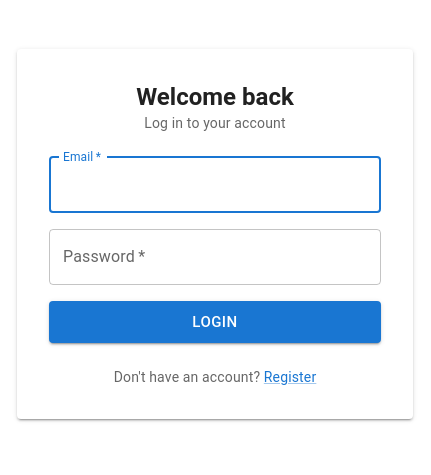
Test: Authentication › shows an error message on invalid credentials
In the field labelled "Email *": (215, 185) x1=49 y1=157 x2=381 y2=213, type "wrong@example.com"
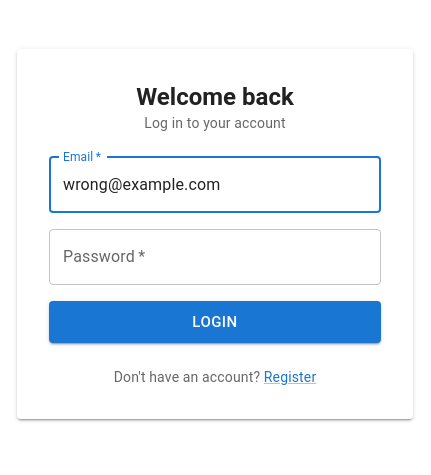
In the password field labelled "Password *": (215, 257) x1=49 y1=229 x2=381 y2=285, type "wrongpass"
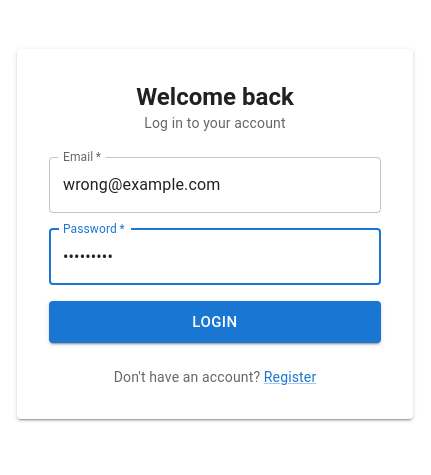
Click the submit button: (215, 322) x1=49 y1=301 x2=381 y2=343
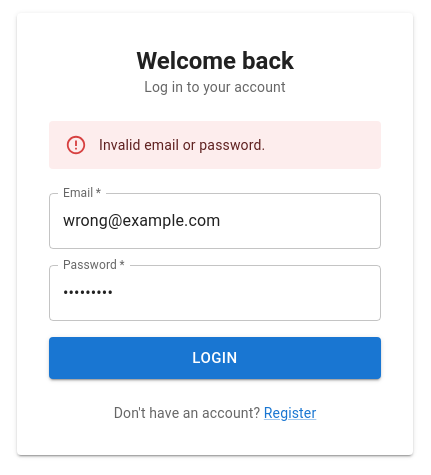
Now the text "Invalid email or password." is shown, box x1=99 y1=137 x2=265 y2=153
